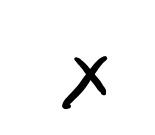mult: (60, 55, 109, 108)
